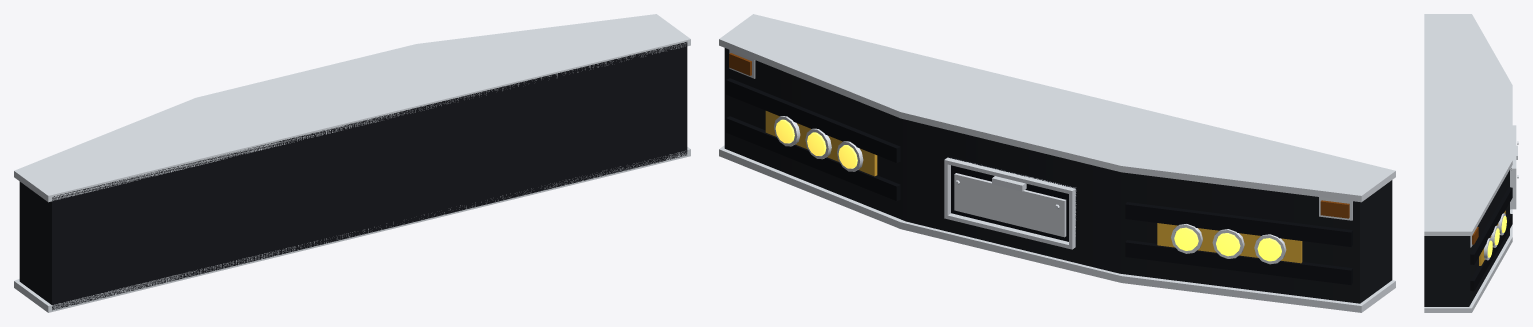
The model's file is fb_fan_gold.glb.
The picture shows the model from 3 angles, left to right: view 1: azimuth 30°, elevation 25°; view 2: azimuth 150°, elevation 25°; view 3: azimuth 270°, elevation 25°; orthographic projection. The views are drawn at different scales.
Visible parts, largest first — view 1: fb_fan_gold_MID_deco_body, fb_fan_gold_TOP_chrome, fb_fan_gold_TOP_deco_body, fb_fan_gold_BOT_deco_body, fb_fan_gold_BOT_chrome; view 2: fb_fan_gold_TOP_chrome, fb_fan_gold_TOP_deco_body, fb_fan_gold_MID_deco_trim, fb_fan_gold_MID_deco_body, fb_fan_gold_BOT_deco_body, fb_fan_gold_BOT_chrome, fb_fan_gold_CEN_chrome, fb_fan_gold_CEN_deco_plate, fb_fan_gold_CEN_paint_gold, fb_fan_gold_CEN_lamp_amber, fb_fan_gold_CEN_deco_trim, fb_fan_gold_TOP_deco_signal; view 3: fb_fan_gold_TOP_chrome, fb_fan_gold_MID_deco_body, fb_fan_gold_TOP_deco_body, fb_fan_gold_MID_deco_trim, fb_fan_gold_BOT_deco_body, fb_fan_gold_BOT_chrome, fb_fan_gold_CEN_chrome, fb_fan_gold_CEN_lamp_amber, fb_fan_gold_CEN_paint_gold, fb_fan_gold_TOP_deco_signal.
Boxes of the visible parts, bbox=[...] form: fb_fan_gold_MID_deco_body: bbox=[19, 74, 687, 287]; fb_fan_gold_TOP_chrome: bbox=[14, 14, 690, 202]; fb_fan_gold_TOP_deco_body: bbox=[19, 42, 687, 229]; fb_fan_gold_BOT_deco_body: bbox=[19, 133, 687, 310]; fb_fan_gold_BOT_chrome: bbox=[14, 147, 690, 312]; fb_fan_gold_TOP_chrome: bbox=[719, 14, 1395, 220]; fb_fan_gold_TOP_deco_body: bbox=[724, 48, 1392, 227]; fb_fan_gold_MID_deco_trim: bbox=[726, 78, 1352, 284]; fb_fan_gold_MID_deco_body: bbox=[724, 73, 1392, 286]; fb_fan_gold_BOT_deco_body: bbox=[724, 132, 1392, 303]; fb_fan_gold_BOT_chrome: bbox=[719, 145, 1395, 312]; fb_fan_gold_CEN_chrome: bbox=[774, 116, 1286, 264]; fb_fan_gold_CEN_deco_plate: bbox=[954, 173, 1066, 237]; fb_fan_gold_CEN_paint_gold: bbox=[765, 111, 1302, 263]; fb_fan_gold_CEN_lamp_amber: bbox=[775, 119, 1281, 261]; fb_fan_gold_CEN_deco_trim: bbox=[948, 156, 1076, 246]; fb_fan_gold_TOP_deco_signal: bbox=[729, 53, 1349, 218]; fb_fan_gold_TOP_chrome: bbox=[1424, 14, 1512, 247]; fb_fan_gold_MID_deco_body: bbox=[1424, 183, 1509, 295]; fb_fan_gold_TOP_deco_body: bbox=[1424, 170, 1509, 254]; fb_fan_gold_MID_deco_trim: bbox=[1470, 187, 1512, 291]; fb_fan_gold_BOT_deco_body: bbox=[1424, 229, 1509, 306]; fb_fan_gold_BOT_chrome: bbox=[1424, 209, 1512, 312]; fb_fan_gold_CEN_chrome: bbox=[1484, 125, 1518, 260]; fb_fan_gold_CEN_lamp_amber: bbox=[1487, 216, 1506, 257]; fb_fan_gold_CEN_paint_gold: bbox=[1479, 210, 1505, 265]; fb_fan_gold_TOP_deco_signal: bbox=[1472, 227, 1478, 244].
Bounding box in the file's own units: 2.53 × 0.44 × 0.463.
